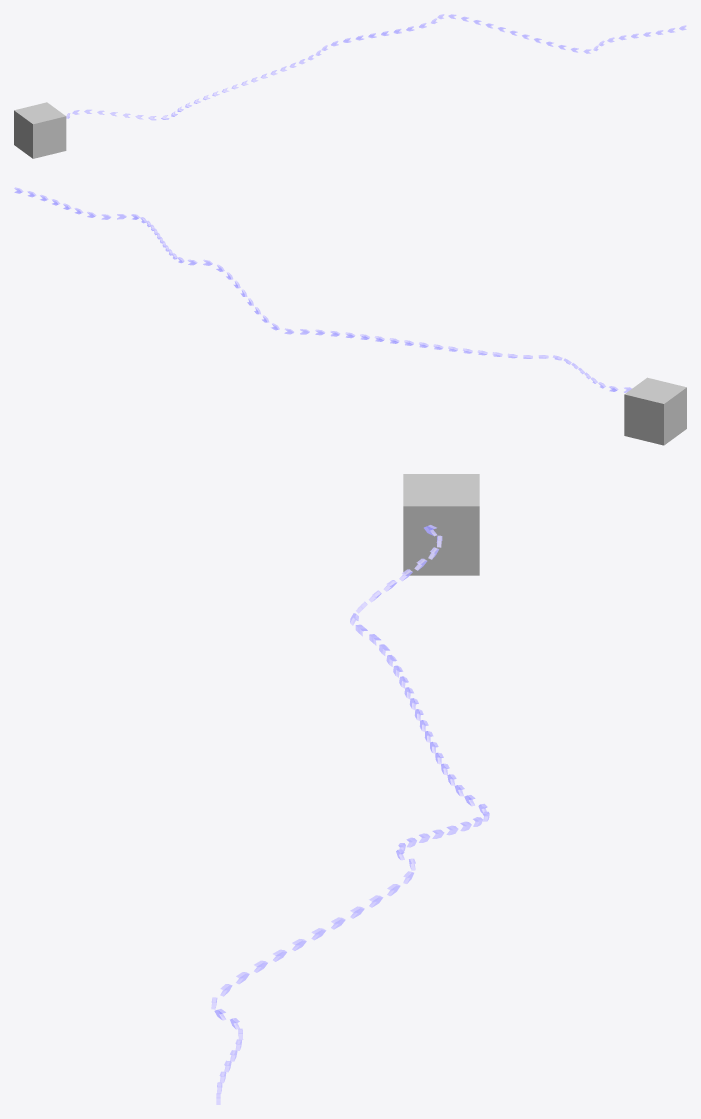
File: space_course_1.glb
3 renders of one model, top to bottom at view 1: azimuth 30°, elevation 25°; view 2: azimuth 150°, elevation 25°; view 3: azimuth 270°, elevation 25°, orthographic. The views are drawn at different scales.
Parts seen in each view (by area): view 1: GOAL_Stargate; view 2: GOAL_Stargate; view 3: GOAL_Stargate.
Part boxes in pixels (bbox=[...]): GOAL_Stargate: bbox=[14, 102, 66, 158]; GOAL_Stargate: bbox=[624, 377, 686, 445]; GOAL_Stargate: bbox=[403, 474, 479, 575].
Size of the model in its own units: 13.82 by 0.9179 by 2.75.
